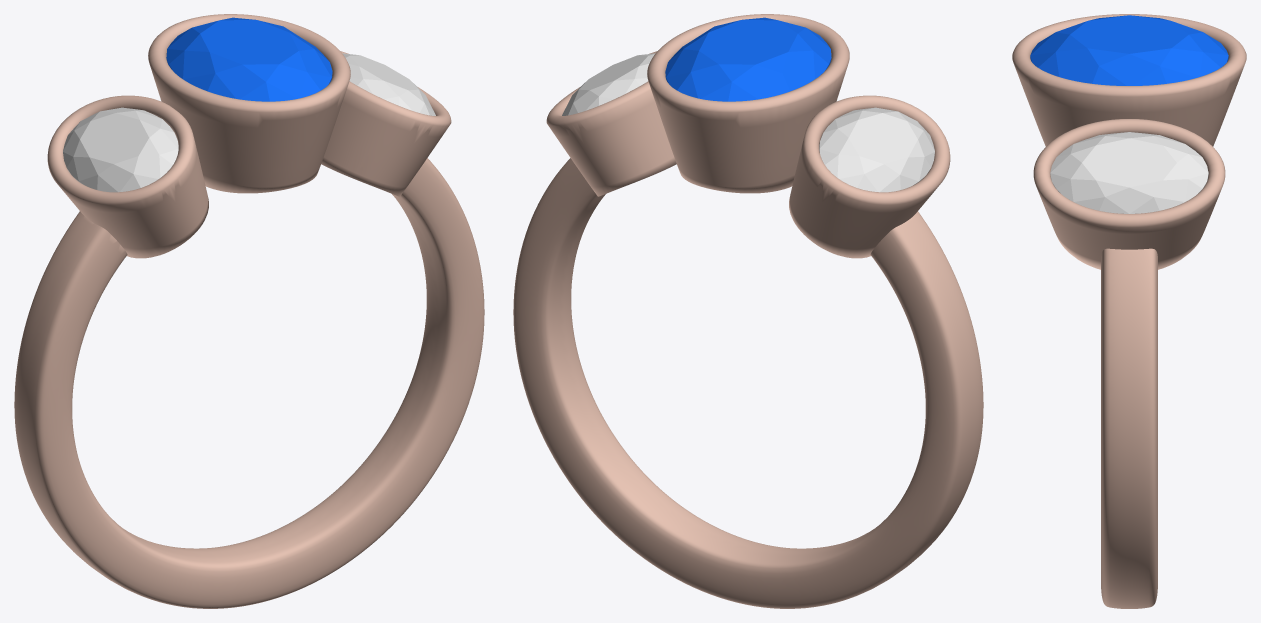
File: bluesapphire-oval-rosegold-bezelset-straightband-3stone.glb
The picture shows the model from 3 angles, left to right: view 1: azimuth 30°, elevation 25°; view 2: azimuth 150°, elevation 25°; view 3: azimuth 270°, elevation 25°; orthographic projection.
Visible parts, largest first — view 1: metal, stone.002, side.004, side.005; view 2: metal, stone.002, side.004, side.005; view 3: metal, stone.002, side.005.
Part boxes in pixels (x1,y1,x2,y2): metal: [14, 14, 484, 608]; stone.002: [166, 17, 332, 101]; side.004: [63, 107, 178, 192]; side.005: [342, 53, 435, 115]; metal: [513, 14, 983, 608]; stone.002: [665, 17, 831, 101]; side.004: [819, 107, 934, 192]; side.005: [562, 53, 655, 115]; metal: [1012, 14, 1246, 608]; stone.002: [1030, 15, 1228, 85]; side.005: [1050, 132, 1208, 213].
Bounding box in the file's own units: 19.93 × 23.41 × 9.04.
